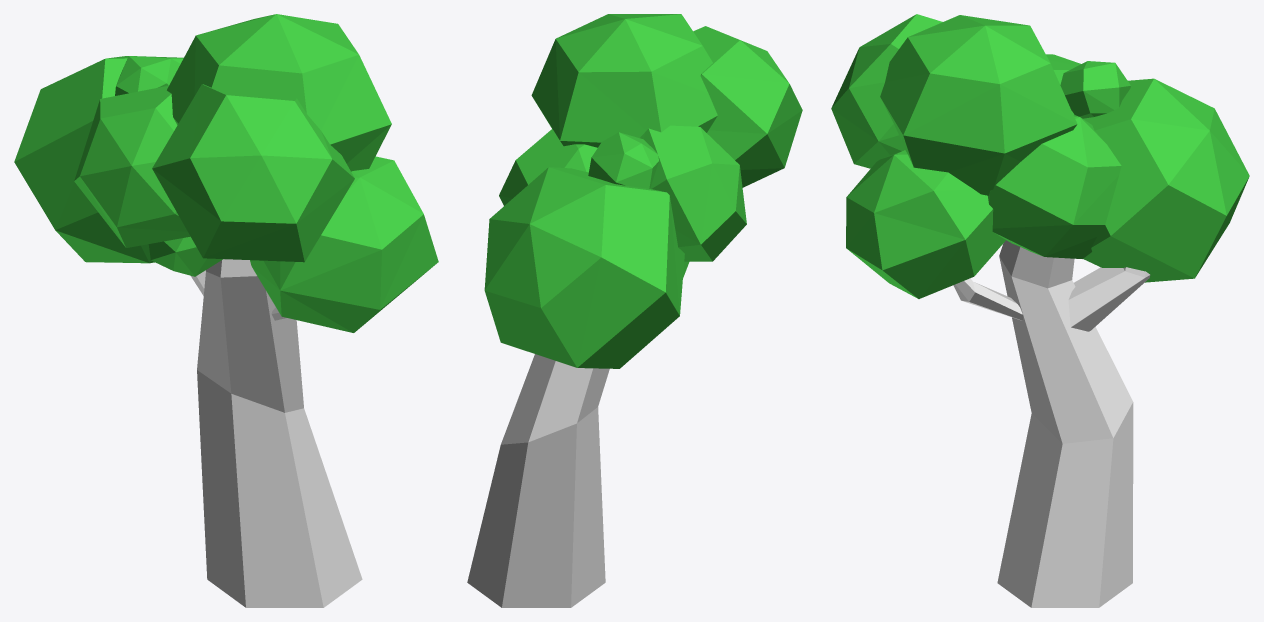
Rendered from leaftree03.fbx.
3 renders of one model, left to right at view 1: azimuth 30°, elevation 25°; view 2: azimuth 150°, elevation 25°; view 3: azimuth 270°, elevation 25°, orthographic. The views are drawn at different scales.
Parts seen in each view (by area): view 1: Sphere.008; view 2: Sphere.008; view 3: Sphere.008.
Part boxes in pixels (box(x1,y1,x2,y2)): Sphere.008: box(14, 14, 438, 607); Sphere.008: box(467, 14, 802, 607); Sphere.008: box(831, 14, 1249, 607).
Bounding box in the file's own units: 355 × 762 × 540.
